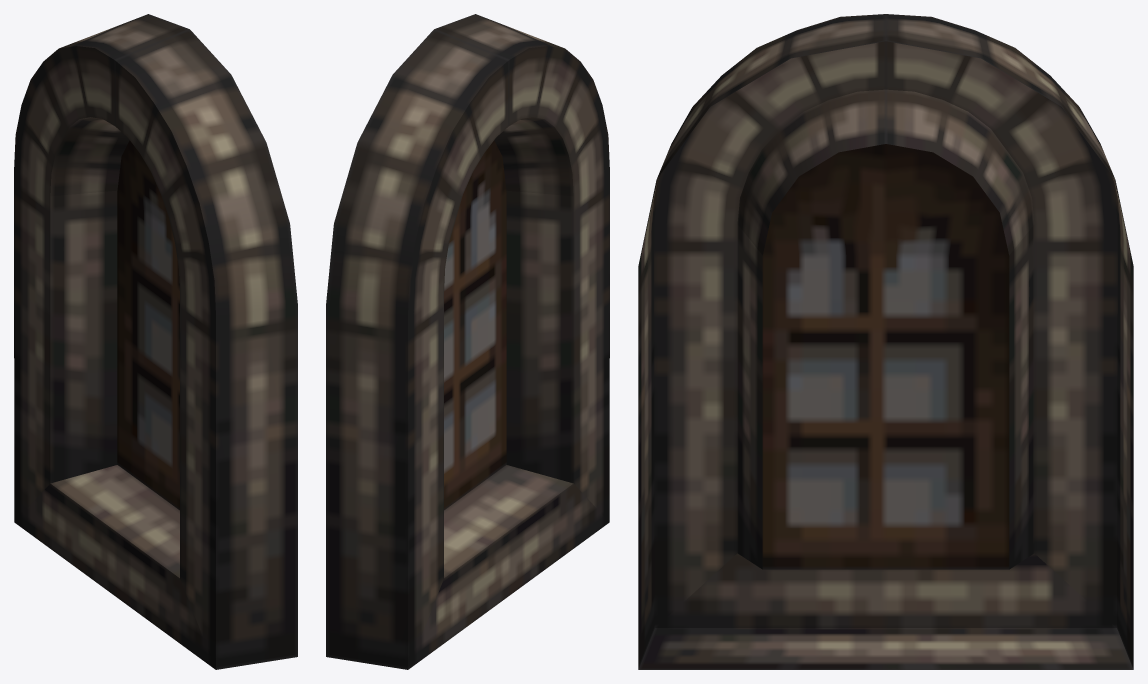
File: EnvBdgMD_Sea_B_Indoor_Window_A.FBX
The picture shows the model from 3 angles, left to right: view 1: azimuth 30°, elevation 25°; view 2: azimuth 150°, elevation 25°; view 3: azimuth 270°, elevation 25°; orthographic projection. The views are drawn at different scales.
Visible parts, largest first — view 1: EnvBdgMD_Sea_B_Indoor_Window_A; view 2: EnvBdgMD_Sea_B_Indoor_Window_A; view 3: EnvBdgMD_Sea_B_Indoor_Window_A.
Part boxes in pixels (box(x1,y1,x2,y2)): EnvBdgMD_Sea_B_Indoor_Window_A: box(14, 14, 297, 669); EnvBdgMD_Sea_B_Indoor_Window_A: box(326, 14, 609, 669); EnvBdgMD_Sea_B_Indoor_Window_A: box(638, 14, 1133, 669).
Bounding box in the file's own units: 30 × 210 × 150.
1 material, 1 textured.
